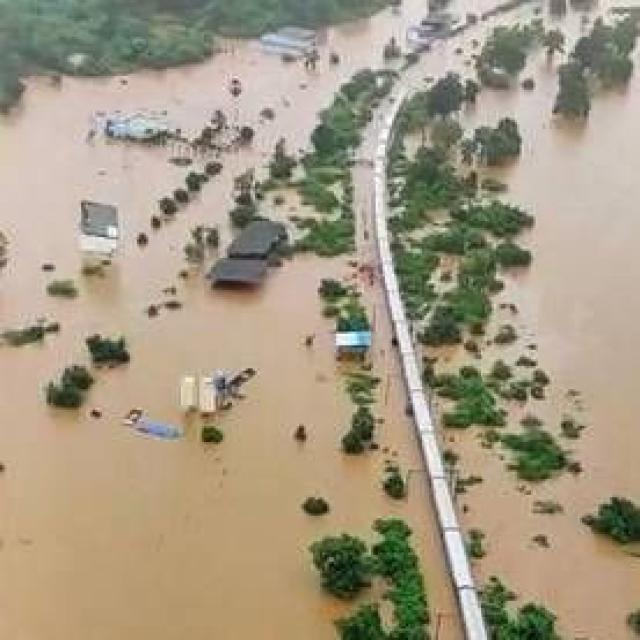flooded_areas: (2, 0, 617, 525)
